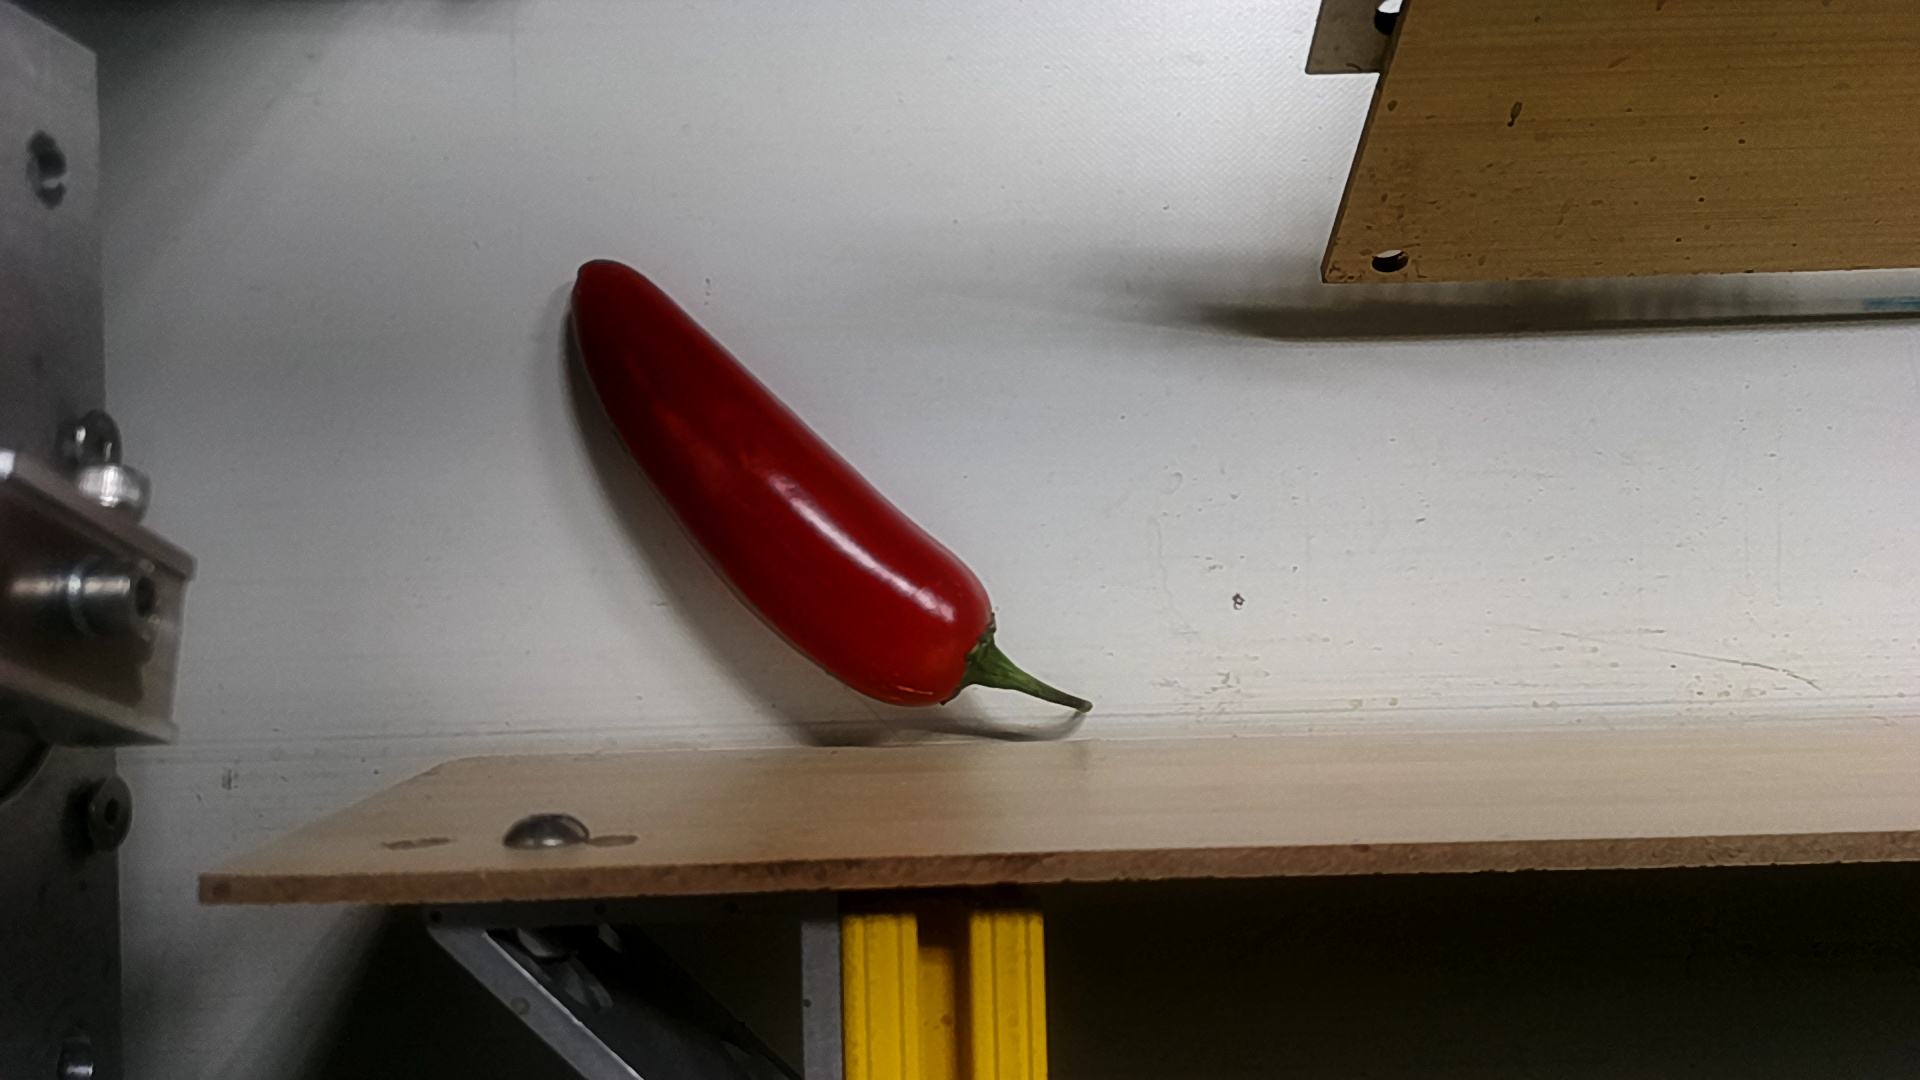Cut Point: (905, 556, 1030, 716)
